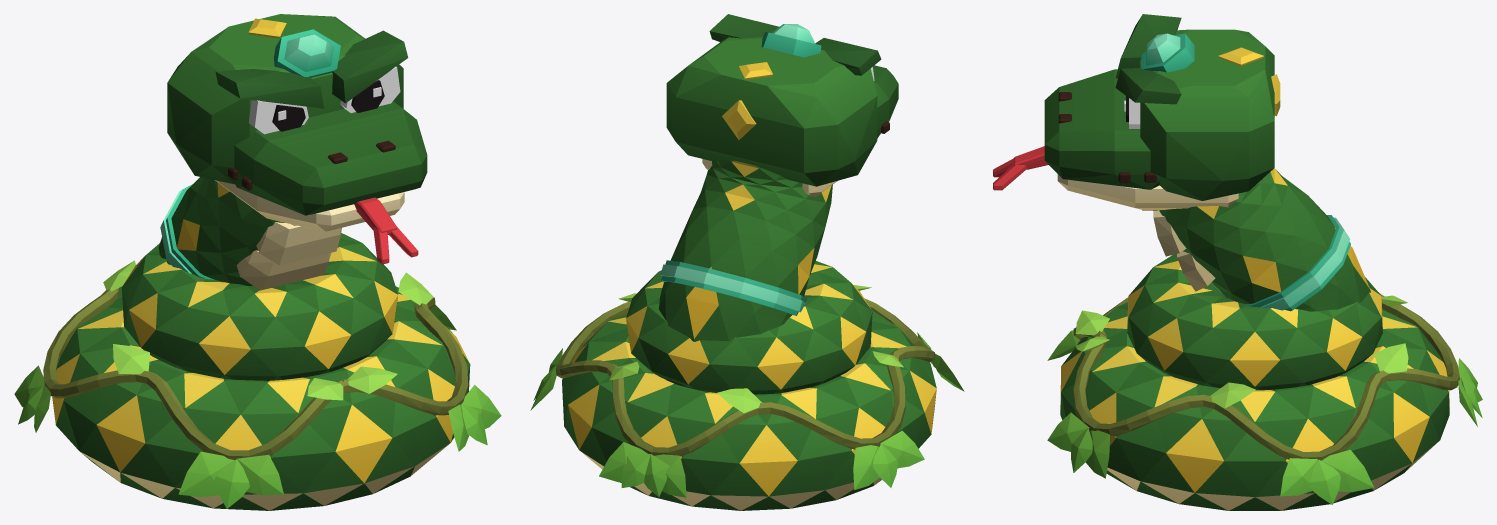
The model's file is JunglePython.glb.
3 renders of one model, left to right at view 1: azimuth 30°, elevation 25°; view 2: azimuth 150°, elevation 25°; view 3: azimuth 270°, elevation 25°, orthographic. The views are drawn at different scales.
Parts seen in each view (by area): view 1: JunglePython; view 2: JunglePython; view 3: JunglePython.
Boxes of the visible parts, x1,y1,x2,y2 form: JunglePython: (14, 14, 501, 510); JunglePython: (530, 14, 964, 510); JunglePython: (993, 14, 1482, 510).
Size of the model in its own units: 1.07 by 1.05 by 1.16.
Materials: 1 (1 with a texture image).
